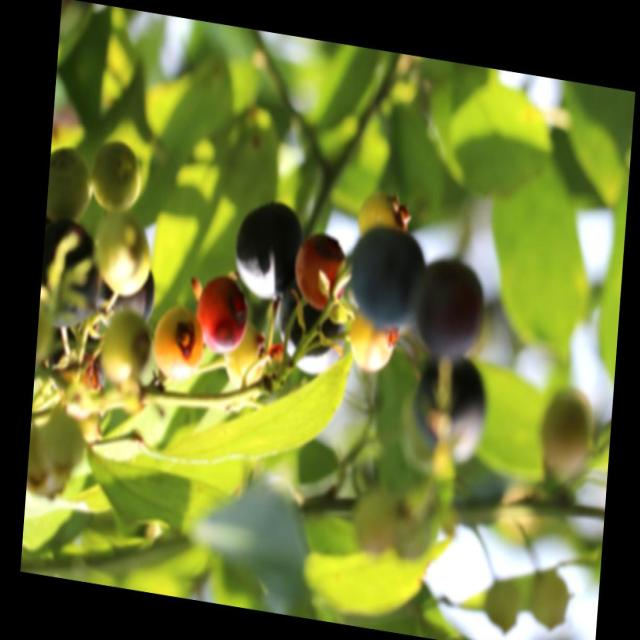blueberry: (406, 347, 490, 470), (347, 225, 429, 337), (228, 198, 310, 304), (412, 255, 490, 361), (40, 217, 104, 341), (268, 282, 346, 376), (96, 256, 158, 341)
blueberry-halfripe: (290, 228, 350, 309), (192, 273, 250, 356), (150, 308, 202, 382), (344, 308, 394, 376)
blueberry-unripe: (93, 208, 151, 307), (93, 137, 142, 219), (46, 142, 92, 223), (220, 320, 270, 394)
